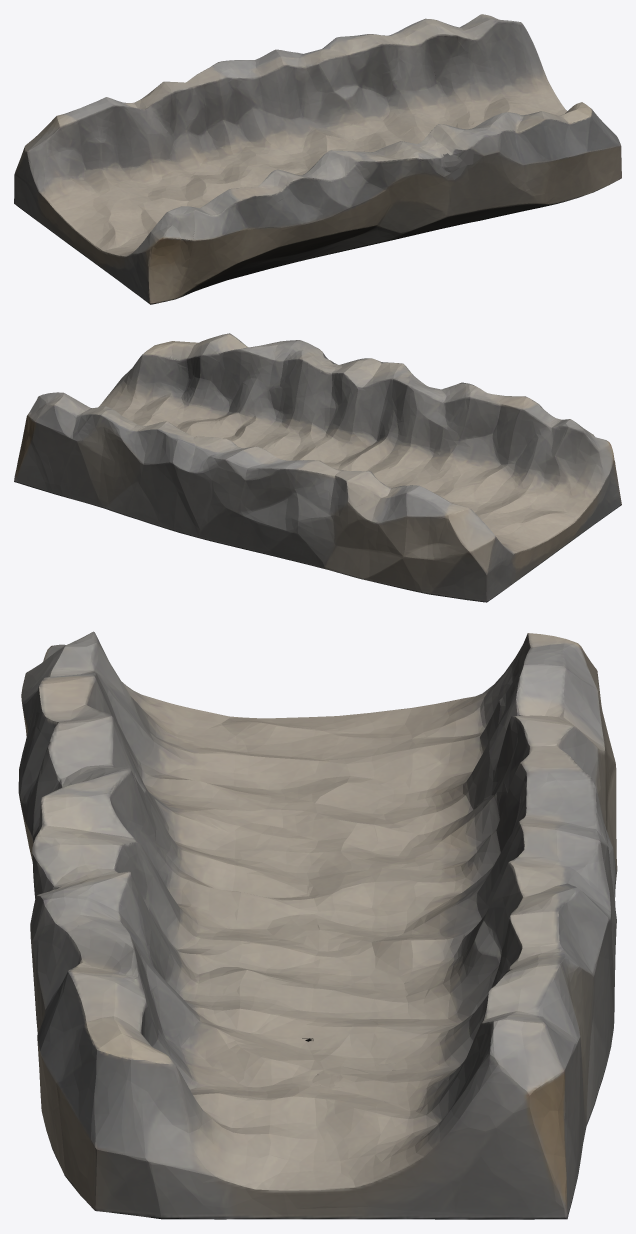
The picture shows the model from 3 angles, top to bottom: view 1: azimuth 30°, elevation 25°; view 2: azimuth 150°, elevation 25°; view 3: azimuth 270°, elevation 25°; orthographic projection. The views are drawn at different scales.
Parts seen in each view (by area): view 1: world; view 2: world; view 3: world.
Part boxes in pixels (box(x1,y1,x2,y2)): world: box(14, 14, 621, 304); world: box(14, 333, 621, 602); world: box(18, 631, 617, 1219).
Size of the model in its own units: 23 by 4.01 by 12.44.
1 material, 1 textured.
